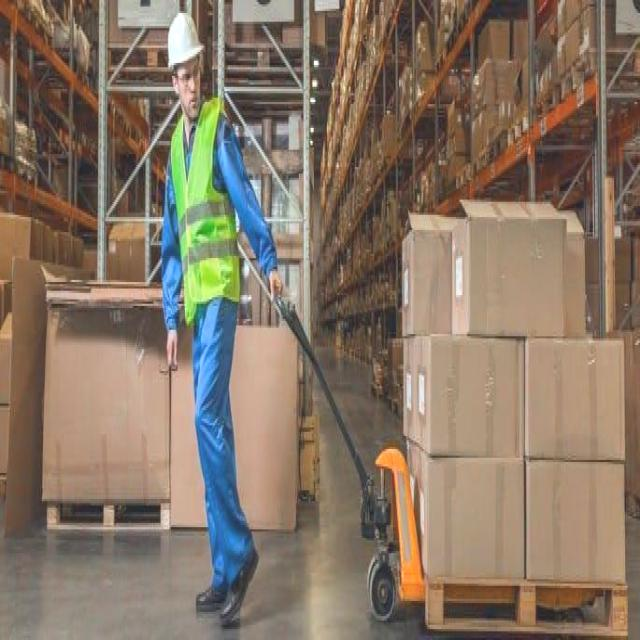face_nomask: (175, 67, 209, 124)
hand_noglove: (262, 243, 287, 317), (164, 321, 182, 391)
head_helmet: (165, 11, 204, 69)
person: (151, 0, 271, 620)
shoes: (220, 535, 260, 626), (194, 561, 231, 619)
vest: (169, 98, 240, 314)
